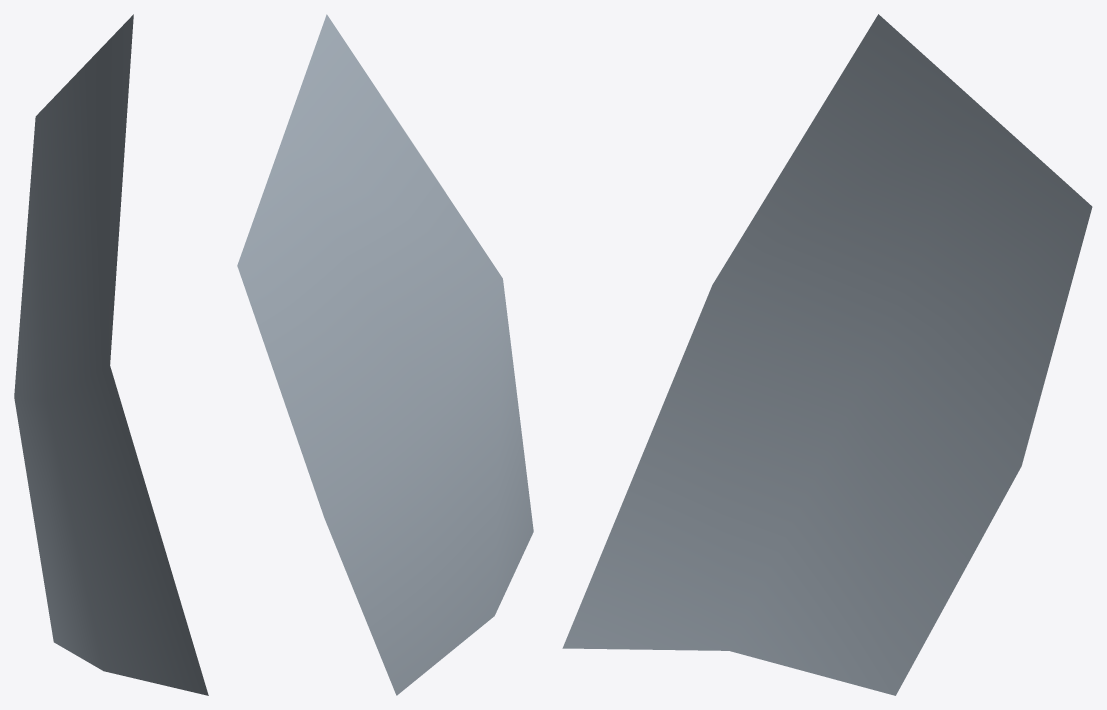
File: radial-collateral-ligament-r.glb
3 views of the same model, side by side, from view 1: azimuth 30°, elevation 25°; view 2: azimuth 150°, elevation 25°; view 3: azimuth 270°, elevation 25° (orthographic). The views are drawn at different scales.
Visible parts, largest first — view 1: Radial collateral ligament.r; view 2: Radial collateral ligament.r; view 3: Radial collateral ligament.r.
Boxes of the visible parts, x1,y1,x2,y2 form: Radial collateral ligament.r: [14, 14, 208, 695]; Radial collateral ligament.r: [237, 14, 533, 695]; Radial collateral ligament.r: [562, 14, 1092, 695].
Bounding box in the file's own units: 0.00453 × 0.0282 × 0.0187.
